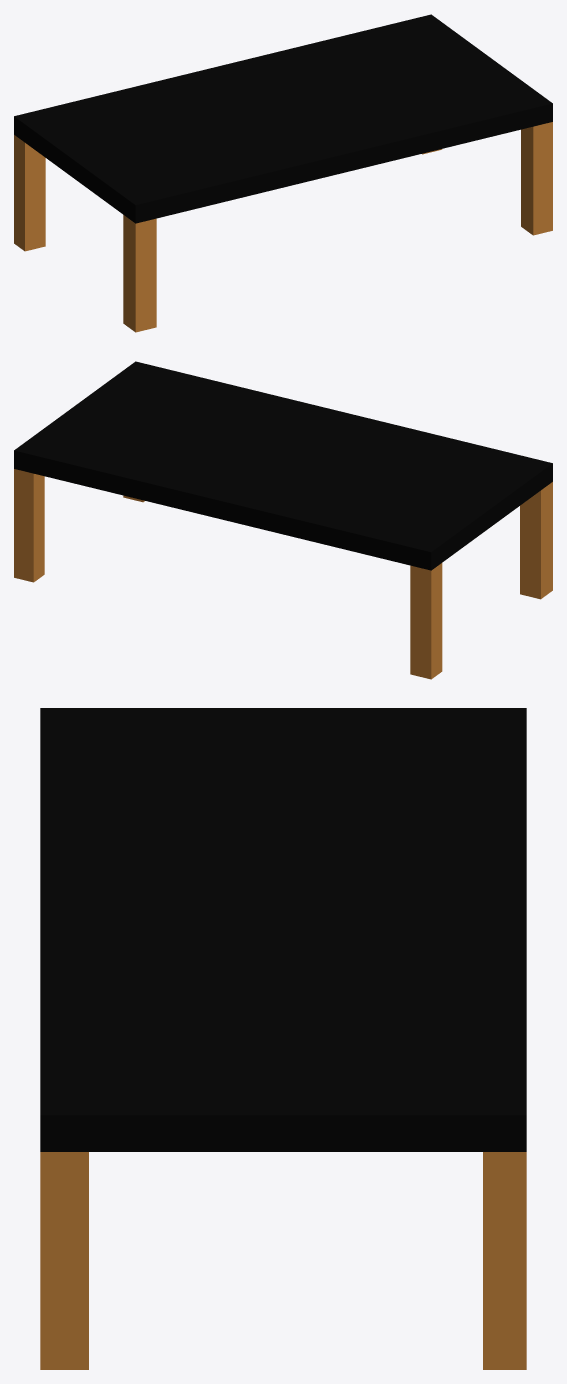
Rendered from Table.fbx.
3 renders of one model, top to bottom at view 1: azimuth 30°, elevation 25°; view 2: azimuth 150°, elevation 25°; view 3: azimuth 270°, elevation 25°, orthographic. The views are drawn at different scales.
Visible parts, largest first — view 1: Cube; view 2: Cube; view 3: Cube.
Boxes of the visible parts, x1,y1,x2,y2 form: Cube: (14,14,552,332); Cube: (14,361,552,679); Cube: (40,708,526,1369).
Size of the model in its own units: 3208 by 935 by 1620.
